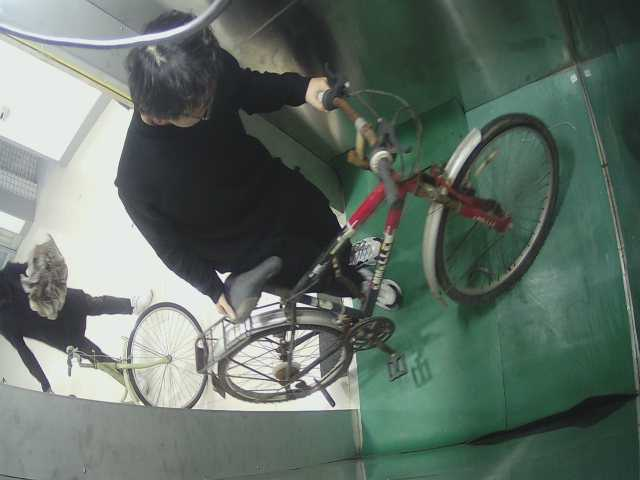bicycle: (199, 79, 571, 406), (63, 294, 215, 421)
person: (112, 24, 399, 320), (1, 239, 165, 393)
